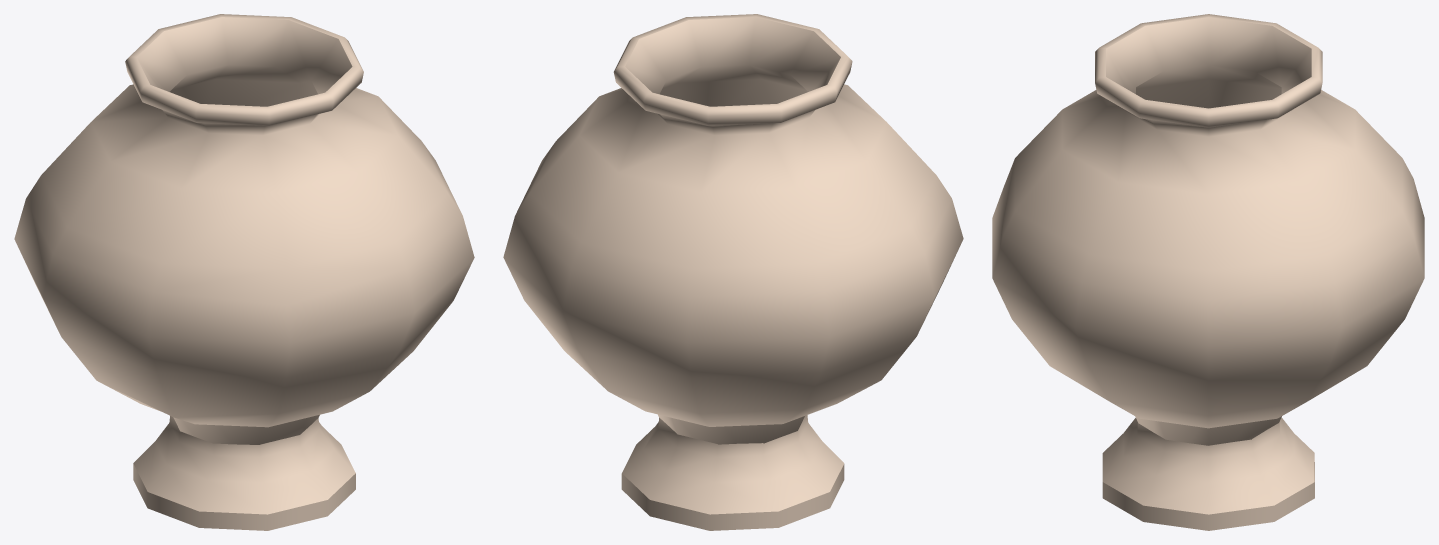
The model's file is Vase_A.fbx.
3 renders of one model, left to right at view 1: azimuth 30°, elevation 25°; view 2: azimuth 150°, elevation 25°; view 3: azimuth 270°, elevation 25°, orthographic.
Parts seen in each view (by area): view 1: Vase_03; view 2: Vase_03; view 3: Vase_03.
Boxes of the visible parts, x1=… form: Vase_03: x1=14, y1=14, x2=474, y2=530; Vase_03: x1=503, y1=14, x2=963, y2=530; Vase_03: x1=992, y1=14, x2=1424, y2=530.
Bounding box in the file's own units: 24.6 × 24.65 × 22.93.
